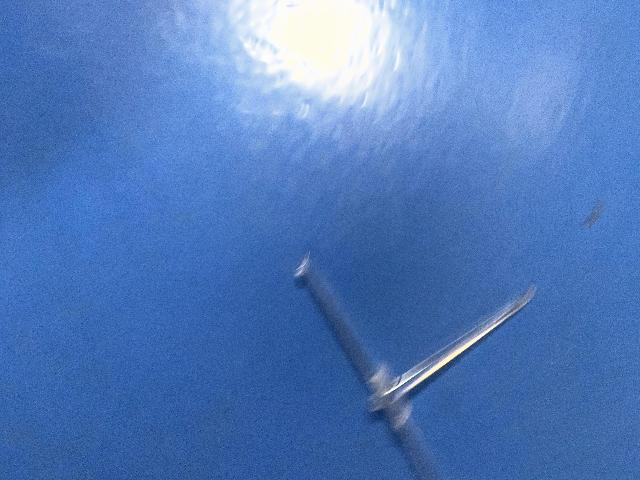Plastik: (289, 229, 576, 480)
